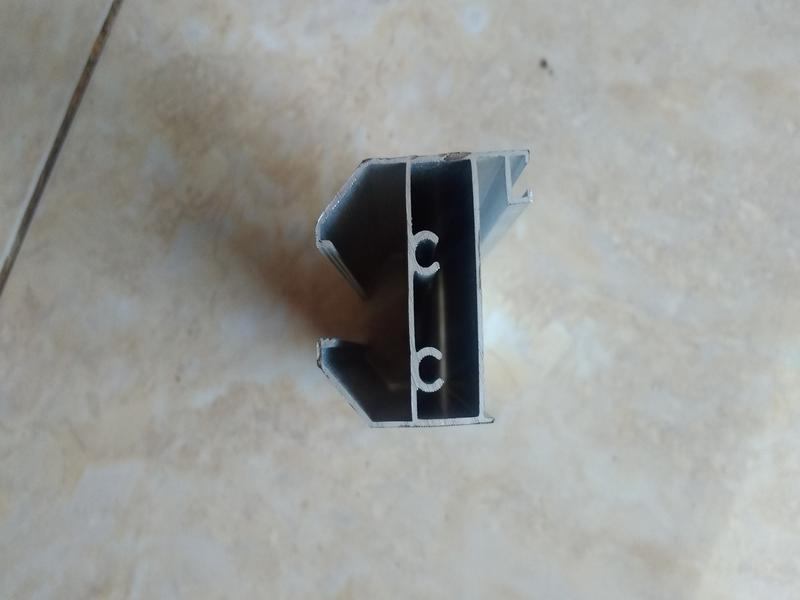Aluminium_3: (289, 129, 564, 440)
